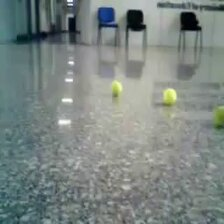tennis: (109, 80, 123, 96), (213, 104, 224, 124), (162, 88, 176, 103)
